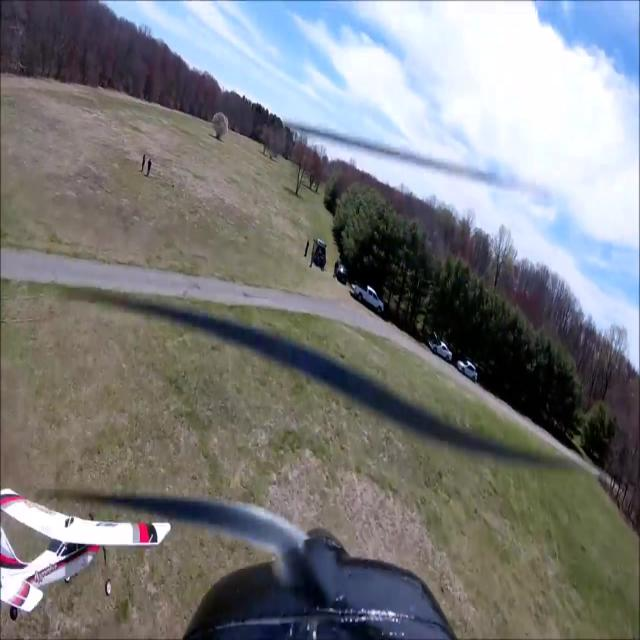iha: (0, 489, 107, 617)
